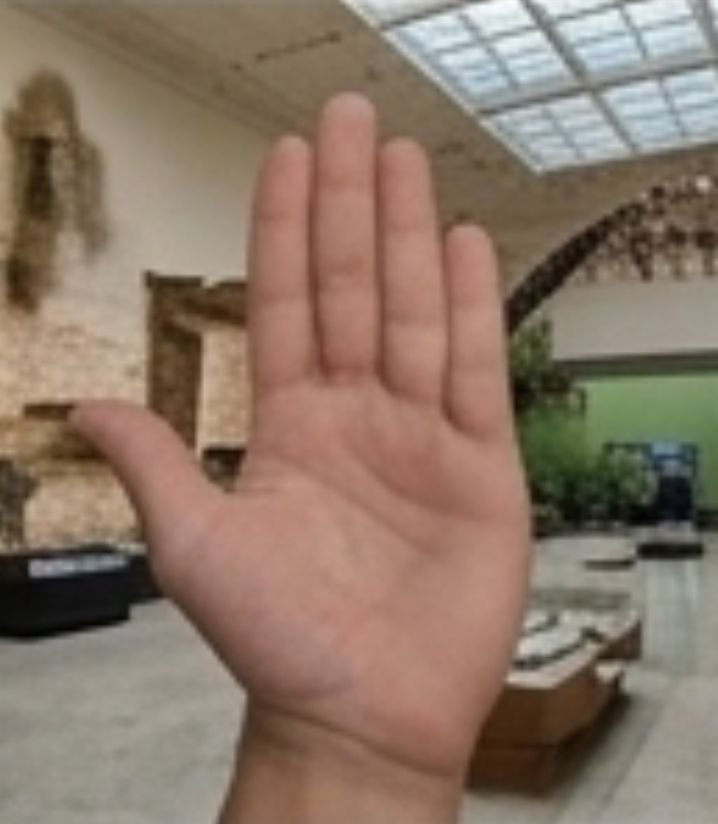Palm: (59, 89, 543, 824)
